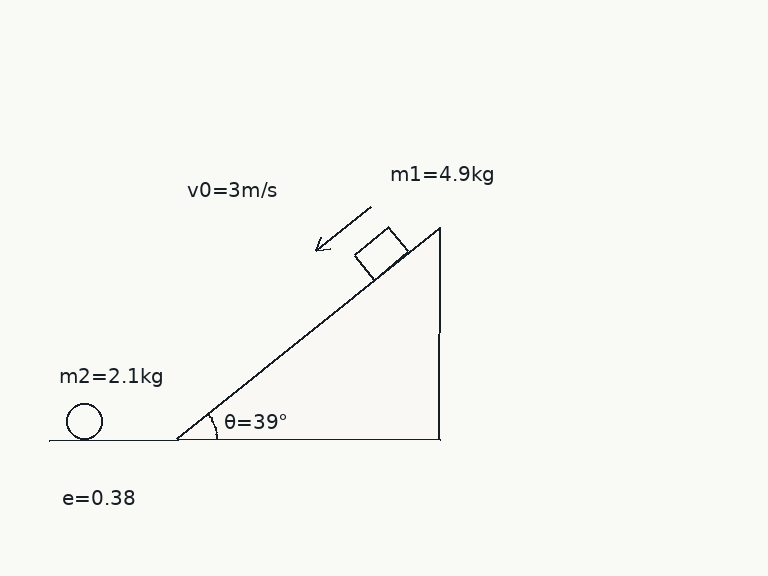ball: (64, 401, 104, 441)
block: (351, 225, 410, 282)
ramp: (175, 225, 441, 441)
